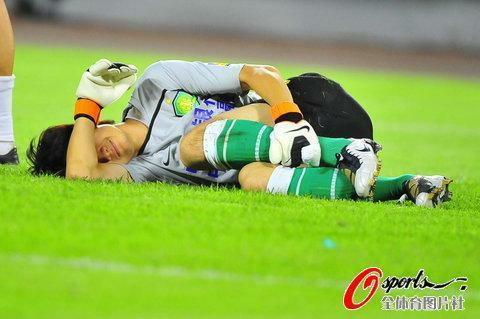Fall-Detected: (28, 47, 447, 207)
